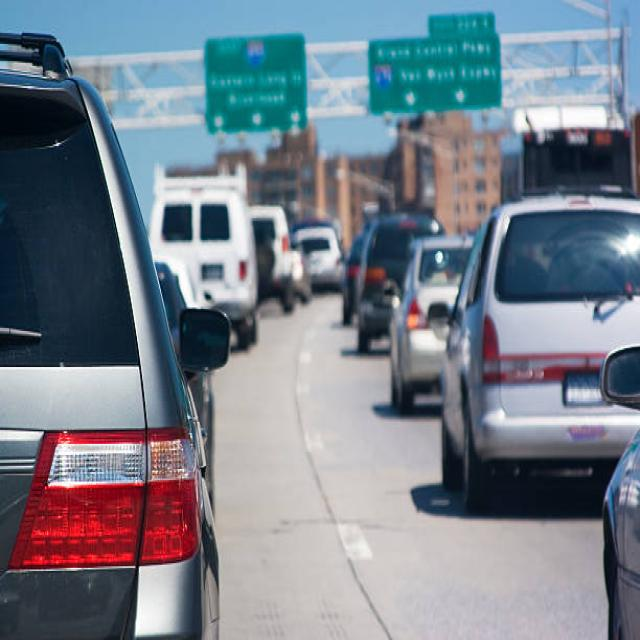Car: (0, 30, 230, 638), (436, 184, 639, 512), (599, 342, 639, 638)
Traffic-sign: (203, 31, 307, 135)
